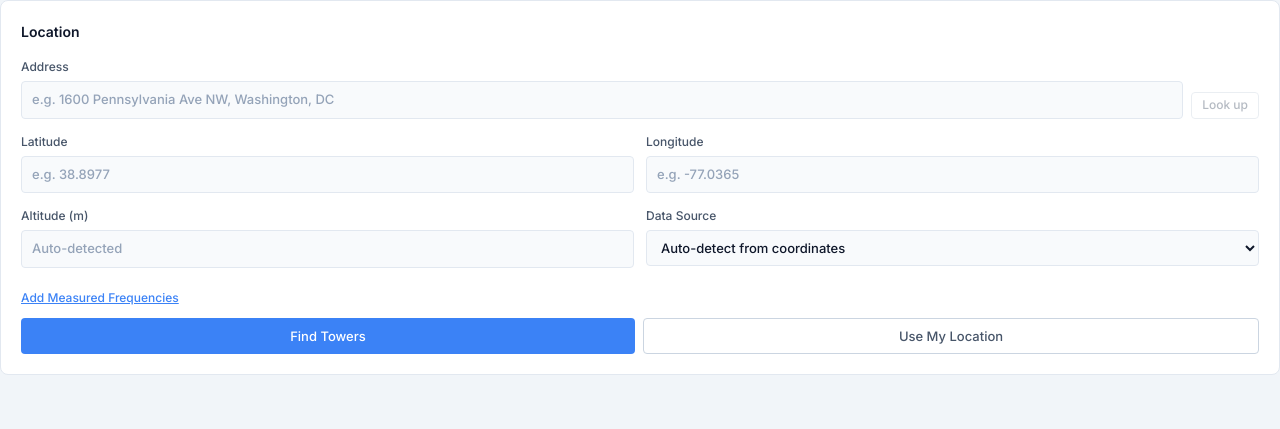
Scenario: SearchForm address lookup › warns that a locality match is only the city centre
The width and height of the screenshot is (1280, 429).
Type "Washington DC" into the field labelled "Address" at (602, 100), box [21, 81, 1183, 118]
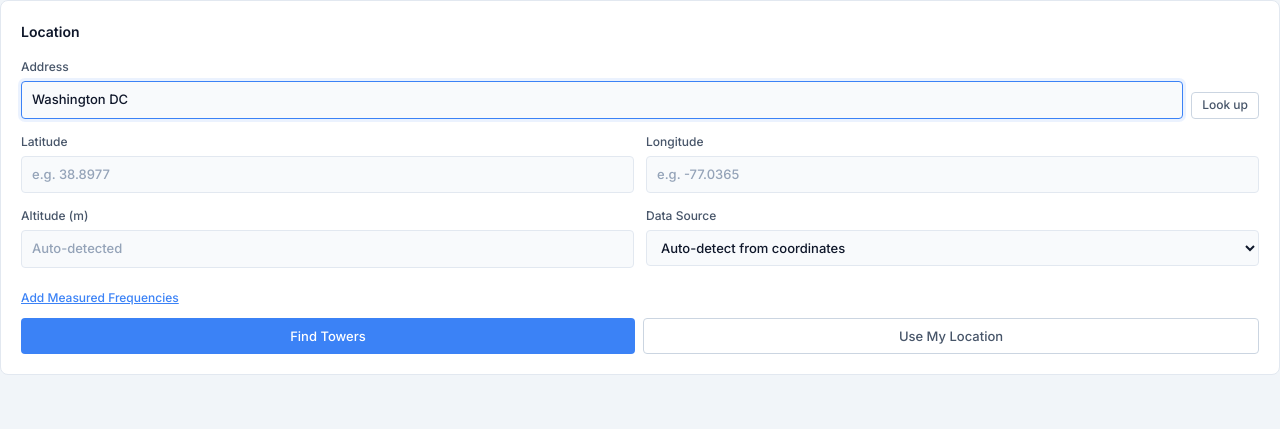
Click the button "Look up" at (1225, 105), box [1191, 92, 1259, 118]
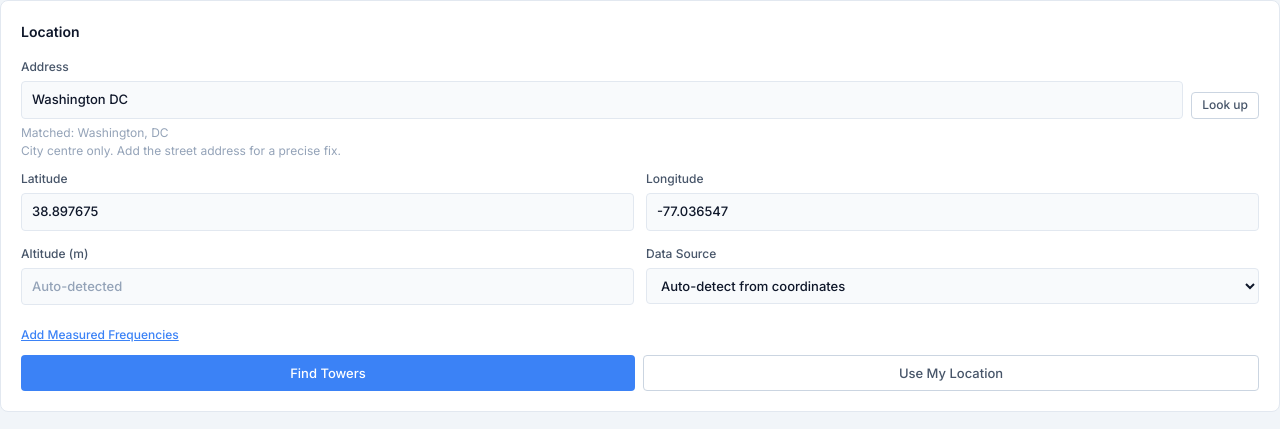
Now the text "City centre only. Add the street address for a precise fix." is shown, box [21, 143, 341, 158]
